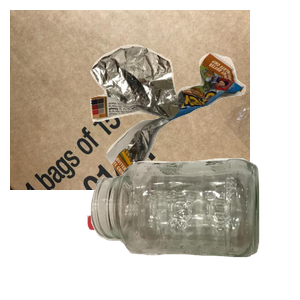cardboard: (10, 10, 250, 190)
glass: (88, 156, 300, 300)
plastic: (84, 191, 242, 300)
trash: (88, 42, 300, 219)
